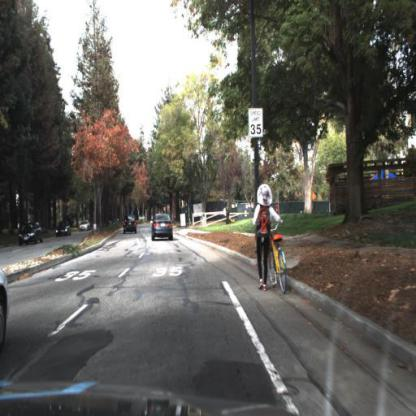car: (1, 257, 12, 355), (152, 213, 174, 243), (20, 222, 44, 248), (54, 219, 72, 238), (124, 217, 138, 235), (56, 224, 71, 238), (77, 219, 91, 233), (78, 220, 91, 232)
pedestrian: (251, 184, 295, 301), (256, 183, 274, 293)
